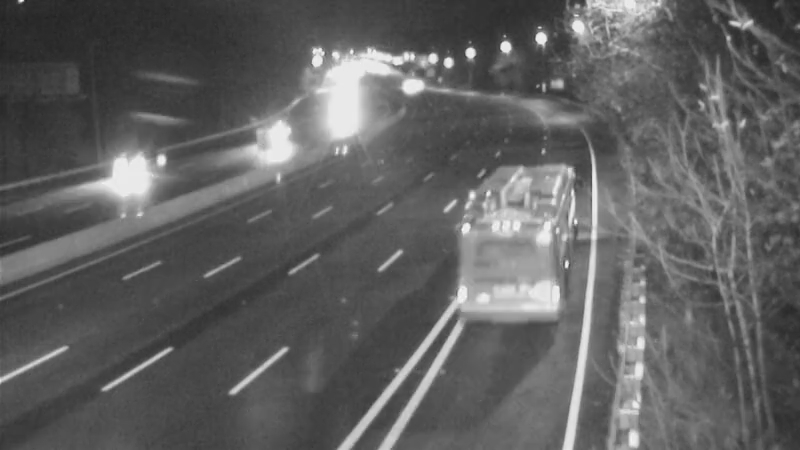vehicle: (454, 216, 534, 296), (95, 133, 175, 213), (253, 111, 303, 161)
